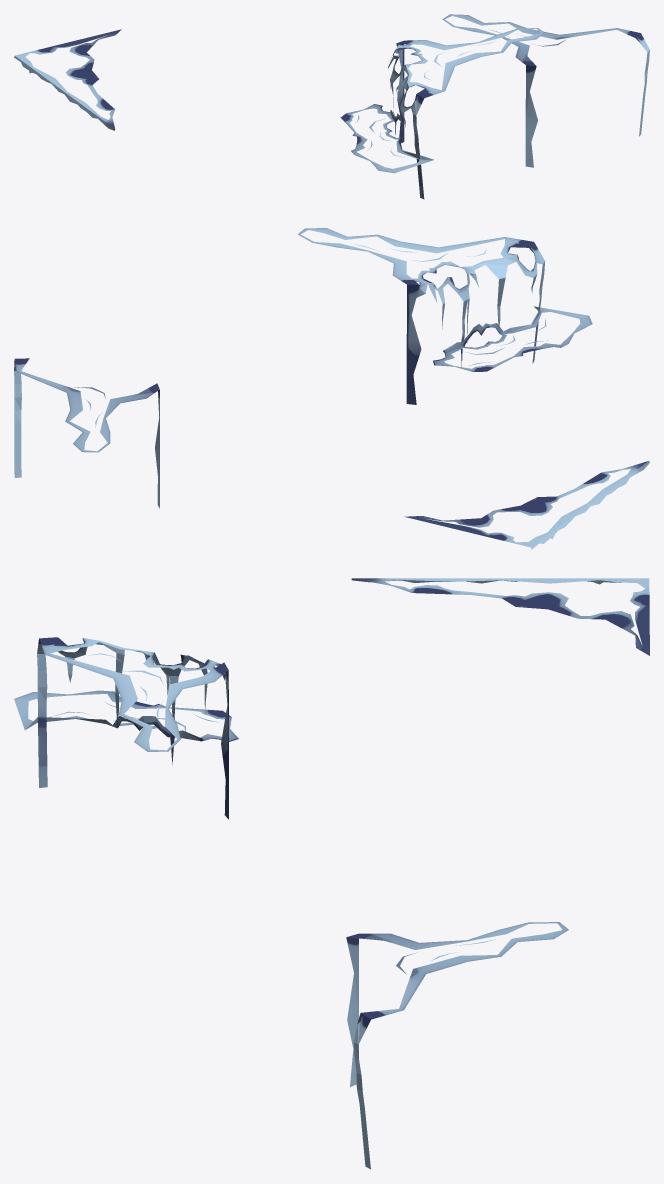
Rendered from Water_02.FBX.
3 views of the same model, one above another, from view 1: azimuth 30°, elevation 25°; view 2: azimuth 150°, elevation 25°; view 3: azimuth 270°, elevation 25° (orthographic). The views are drawn at different scales.
Visible parts, largest first — view 1: Water_02; view 2: Water_02; view 3: Water_02.
Part boxes in pixels (left/top/right/bottom): Water_02: left=14, top=14, right=649, bottom=199; Water_02: left=14, top=228, right=649, bottom=549; Water_02: left=14, top=578, right=649, bottom=1169.
Size of the model in its own units: 40.4 by 14.29 by 27.91.
